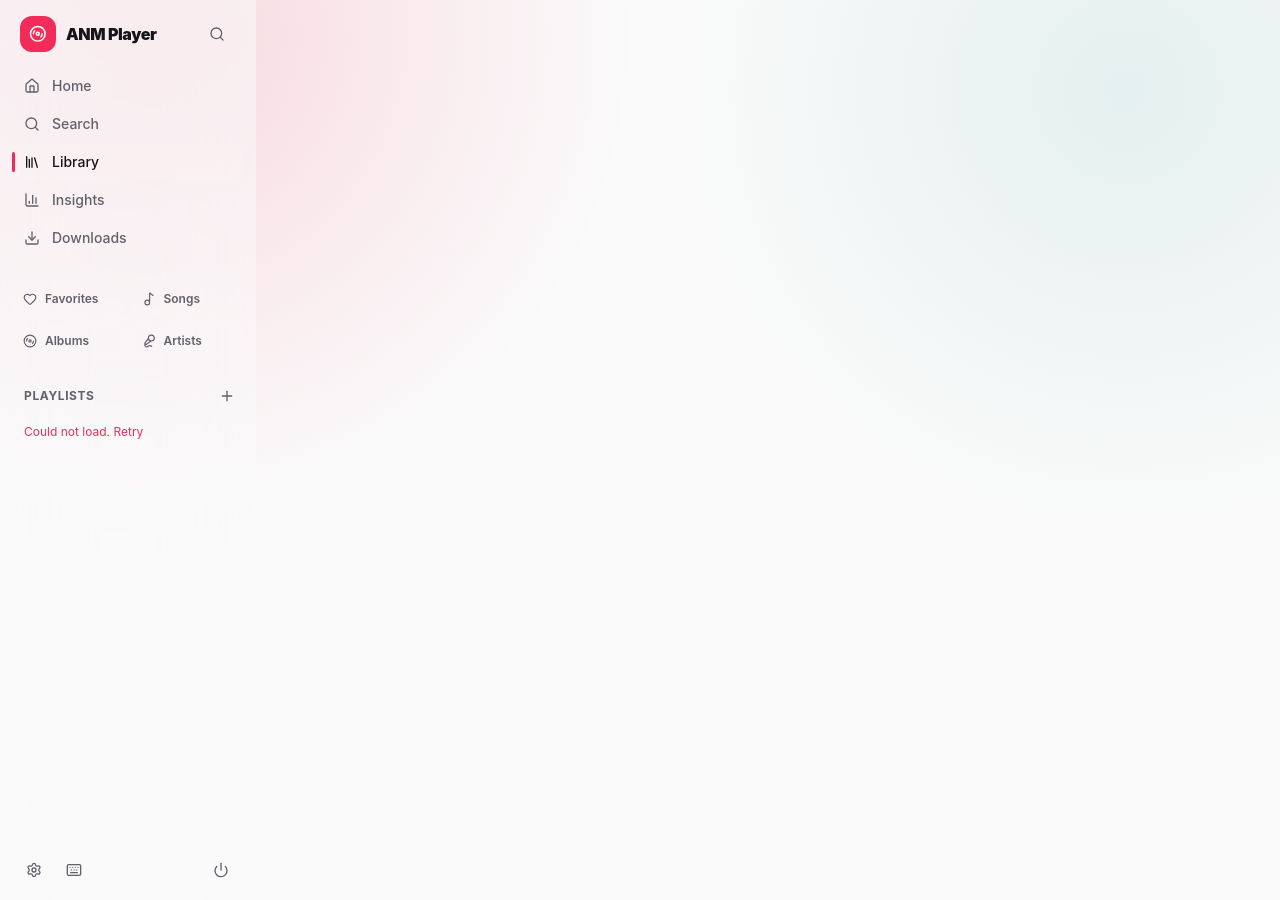
library navigation › shows a recoverable playlist error instead of an empty library
This screenshot has width=1280, height=900.
Click the button "Could not load. Retry". click: (84, 432)
box: [12,416,155,448]
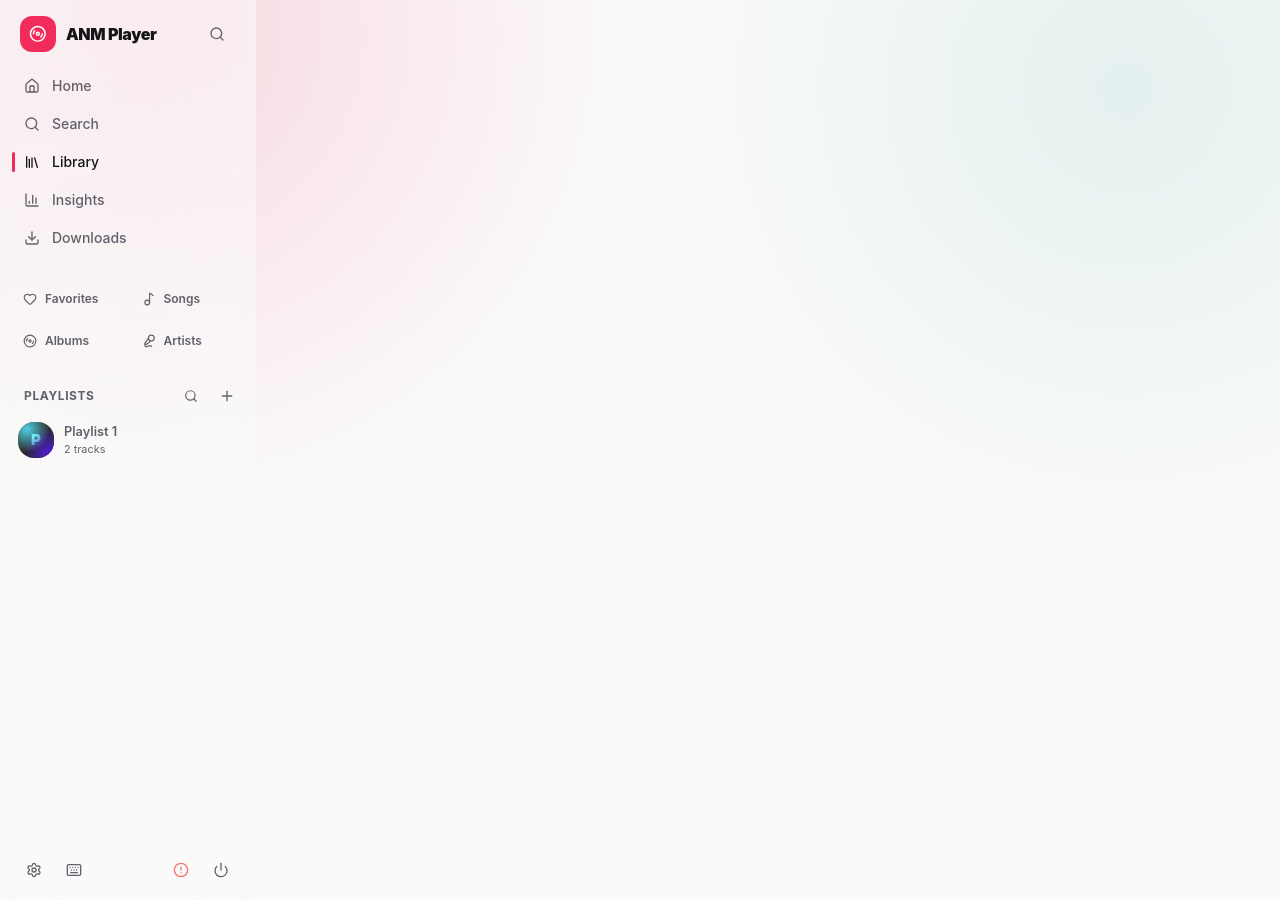
Expected: the link "P Playlist 1 2 tracks" is shown, [18,422,117,458]
